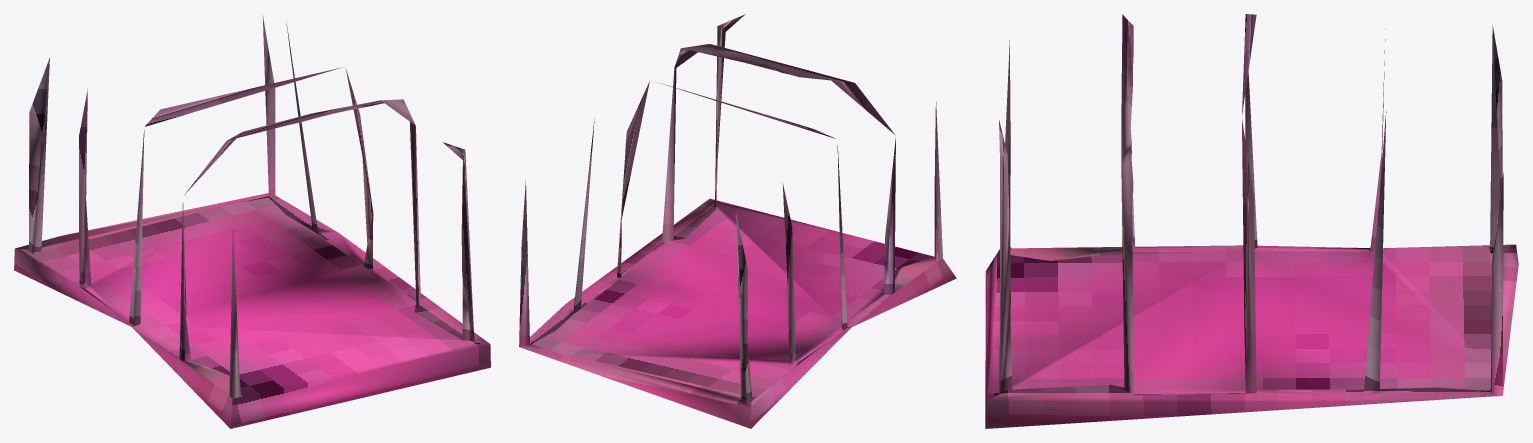
Rendered from Poppin_File_Sorter_Pink-low.glb.
3 renders of one model, left to right at view 1: azimuth 30°, elevation 25°; view 2: azimuth 150°, elevation 25°; view 3: azimuth 270°, elevation 25°, orthographic. The views are drawn at different scales.
Visible parts, largest first — view 1: Poppin_File_Sorter_Pink; view 2: Poppin_File_Sorter_Pink; view 3: Poppin_File_Sorter_Pink.
Part boxes in pixels (box(x1,y1,x2,y2)): Poppin_File_Sorter_Pink: box(14, 15, 490, 428); Poppin_File_Sorter_Pink: box(519, 14, 956, 428); Poppin_File_Sorter_Pink: box(985, 14, 1518, 428).
Size of the model in its own units: 0.1718 by 0.1516 by 0.2487.
1 material, 1 textured.
